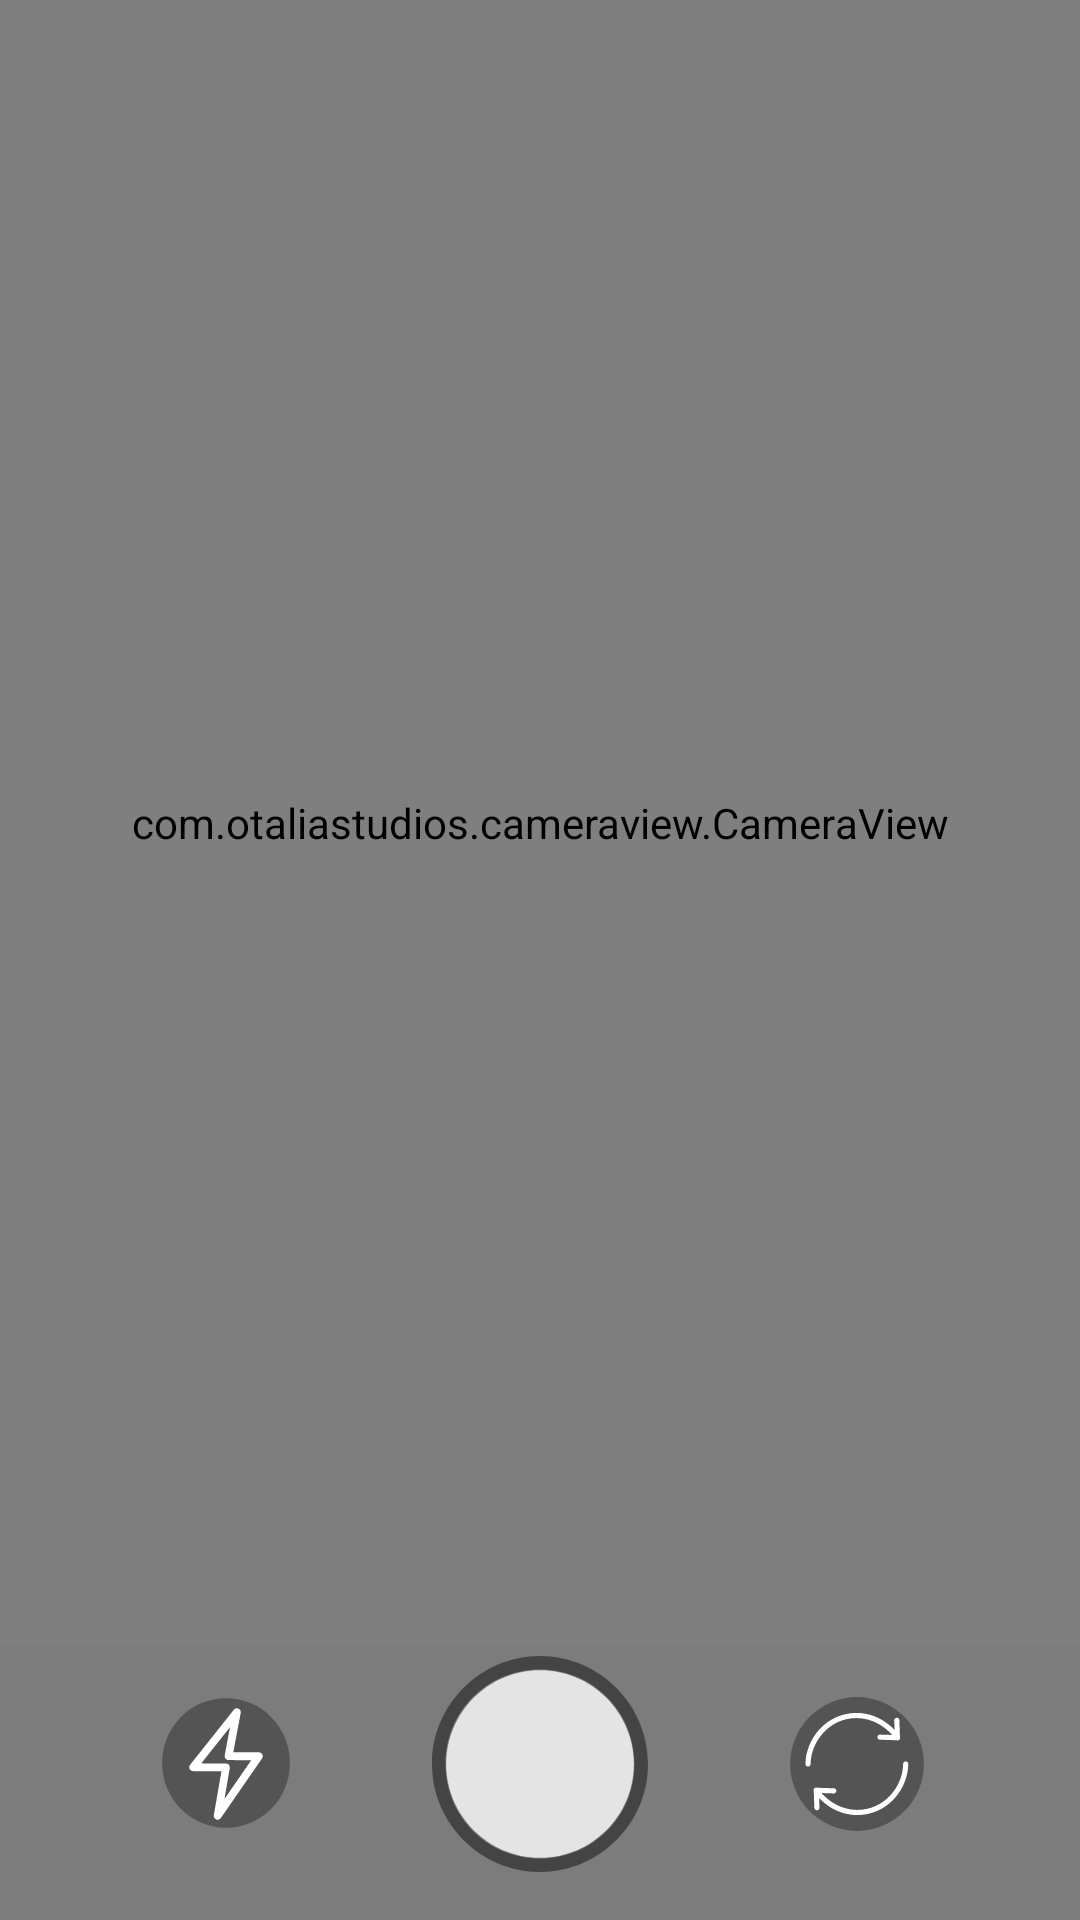

Icon bounding boxes for this 1080*1920 phone screenshot, format detection(x1, y1, x2, y2):
lightning circle: detection(162, 1698, 290, 1828)
recycle circle: detection(790, 1697, 924, 1831)
shutter circle: detection(432, 1656, 648, 1872)
